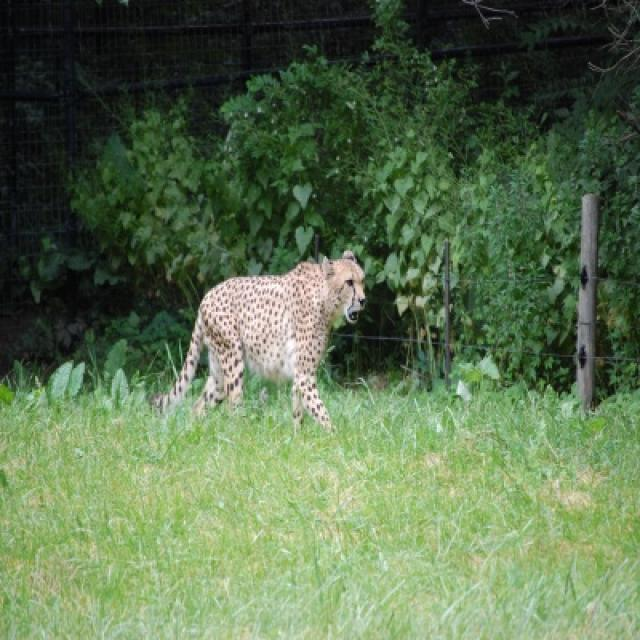Cheetah: (171, 251, 366, 430)
